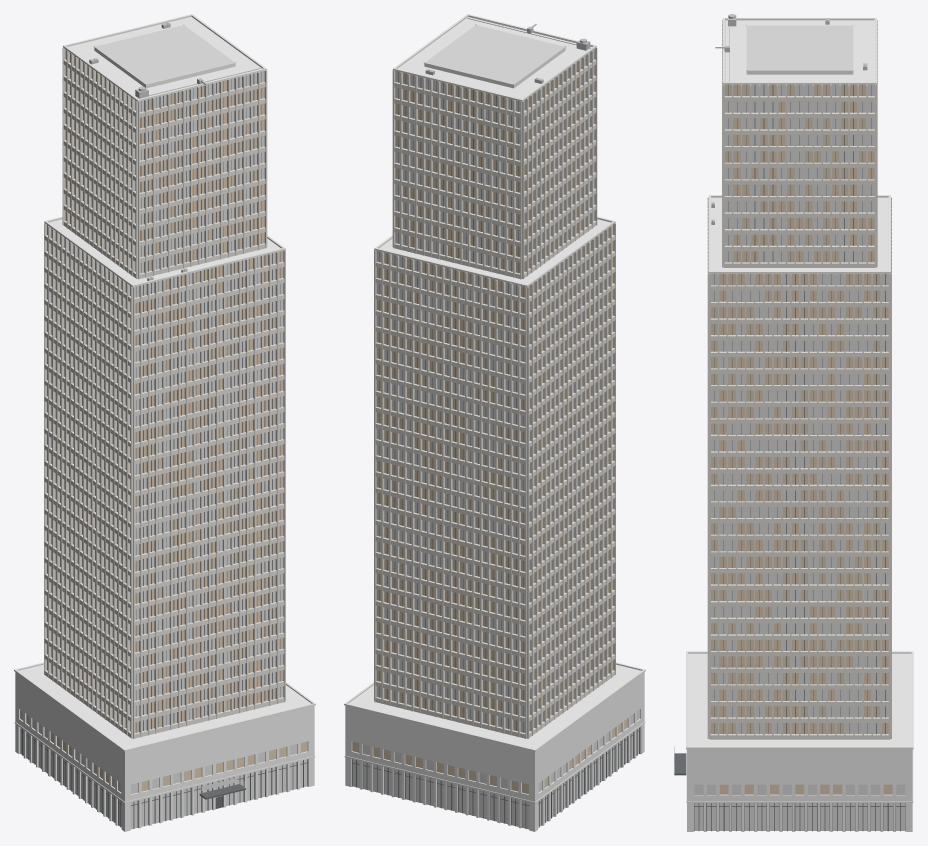
Rendered from tower_hero570.glb.
The picture shows the model from 3 angles, left to right: view 1: azimuth 30°, elevation 25°; view 2: azimuth 150°, elevation 25°; view 3: azimuth 270°, elevation 25°; orthographic projection. The views are drawn at different scales.
Visible parts, largest first — view 1: tower_hero570_Walls, tower_hero570_Glass, tower_hero570_WindowsLit, tower_hero570_Walls2, tower_hero570_Frames, tower_hero570_Roof, tower_hero570_Trim, tower_hero570_Sign; view 2: tower_hero570_Walls, tower_hero570_Glass, tower_hero570_WindowsLit, tower_hero570_Walls2, tower_hero570_Frames, tower_hero570_Roof, tower_hero570_Trim, tower_hero570_Sign, tower_hero570_Details; view 3: tower_hero570_Walls, tower_hero570_Glass, tower_hero570_WindowsLit, tower_hero570_Walls2, tower_hero570_Roof, tower_hero570_Frames, tower_hero570_Sign, tower_hero570_Trim.
Part boxes in pixels (x1,y1,x2,y2): tower_hero570_Walls: (44,47,285,738); tower_hero570_Glass: (26,53,307,791); tower_hero570_WindowsLit: (20,49,307,829); tower_hero570_Walls2: (15,672,314,831); tower_hero570_Frames: (20,72,307,828); tower_hero570_Roof: (18,17,311,748); tower_hero570_Trim: (14,14,315,803); tower_hero570_Sign: (95,25,234,84); tower_hero570_Walls: (374,47,615,738); tower_hero570_Glass: (352,56,627,794); tower_hero570_WindowsLit: (352,49,639,829); tower_hero570_Walls2: (345,672,644,831); tower_hero570_Frames: (352,72,639,828); tower_hero570_Roof: (348,17,641,748); tower_hero570_Trim: (344,14,645,803); tower_hero570_Sign: (425,25,564,84); tower_hero570_Details: (425,16,592,83); tower_hero570_Walls: (707,20,891,739); tower_hero570_Glass: (711,84,892,794); tower_hero570_WindowsLit: (694,84,905,830); tower_hero570_Walls2: (687,749,912,831); tower_hero570_Roof: (688,20,911,746); tower_hero570_Frames: (694,84,905,831); tower_hero570_Sign: (746,25,853,70); tower_hero570_Trim: (686,18,913,802).
Size of the model in its own units: 161 by 579 by 170.
